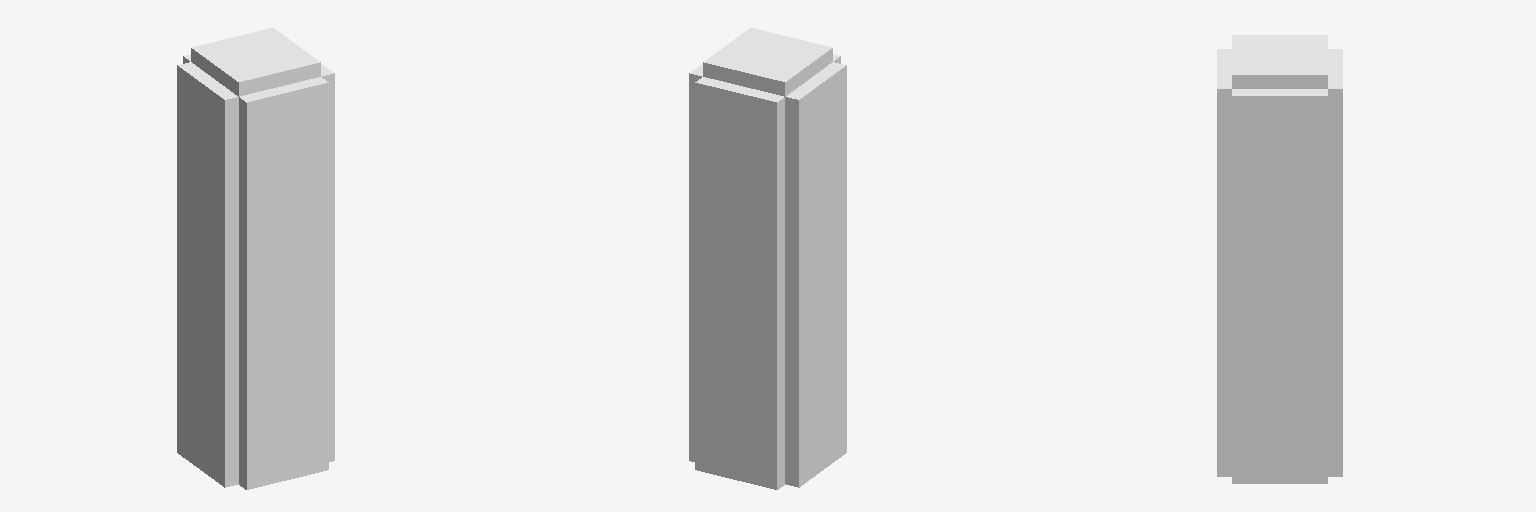
The model's file is cigarette_1.0.obj.
The picture shows the model from 3 angles: view 1: azimuth 30°, elevation 25°; view 2: azimuth 150°, elevation 25°; view 3: azimuth 270°, elevation 25°; orthographic projection.
Visible parts, largest first — view 1: object 1; view 2: object 1; view 3: object 1.
Boxes of the visible parts, x1,y1,x2,y2 form: object 1: [177, 28, 334, 489]; object 1: [689, 28, 846, 489]; object 1: [1217, 35, 1342, 483].
Bounding box in the file's own units: 0.8 × 2.8 × 0.8.